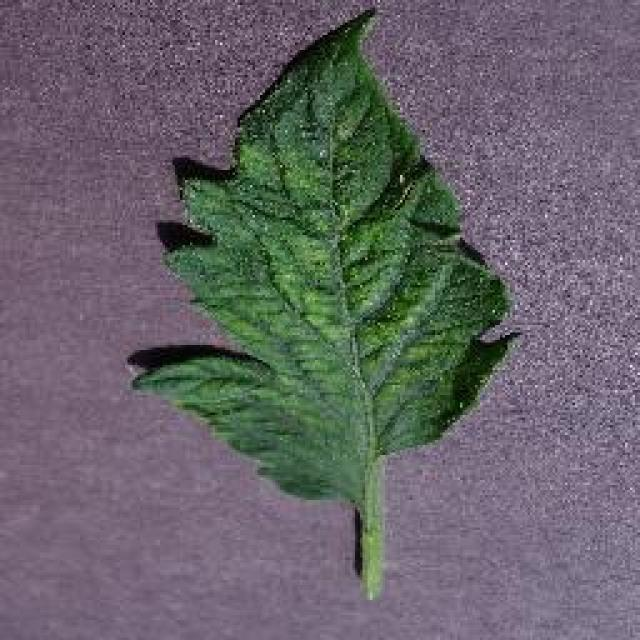Tomato spider mites leaf: (130, 10, 518, 505)
